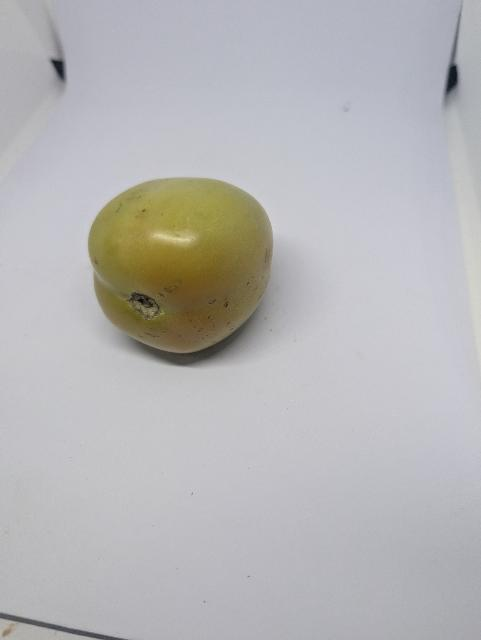breaker: (81, 168, 279, 361)
